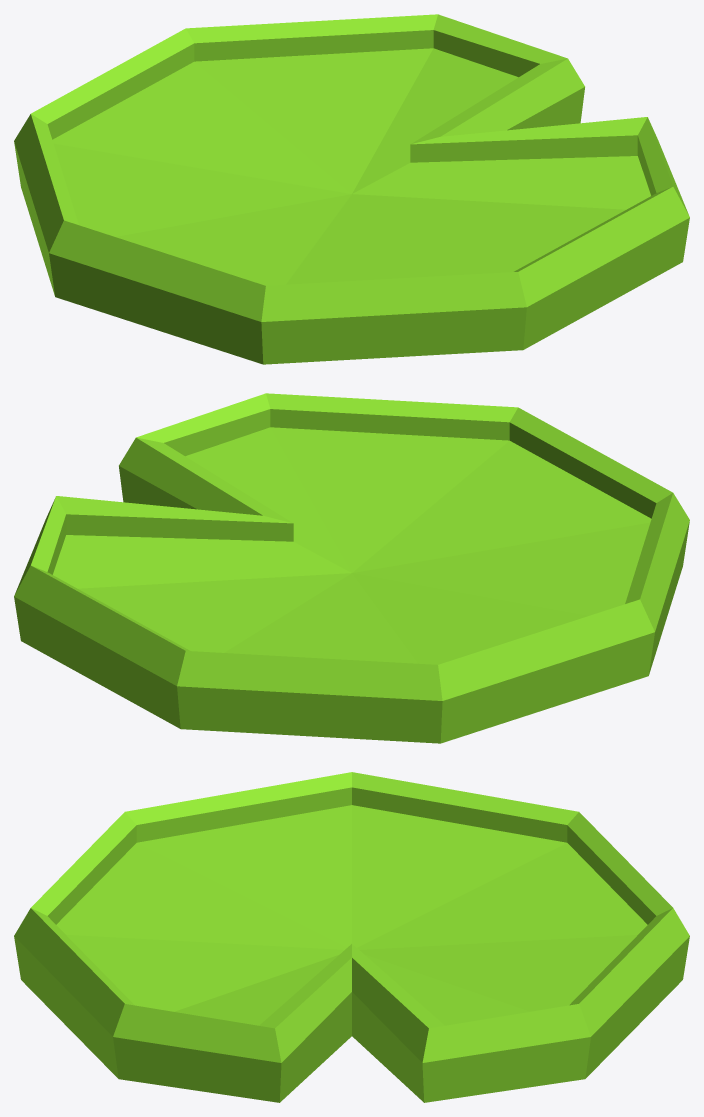
File: Lily pad_Small.fbx
3 renders of one model, top to bottom at view 1: azimuth 30°, elevation 25°; view 2: azimuth 150°, elevation 25°; view 3: azimuth 270°, elevation 25°, orthographic. The views are drawn at different scales.
Parts seen in each view (by area): view 1: Circle.002; view 2: Circle.002; view 3: Circle.002.
Part boxes in pixels (bbox=[...]): Circle.002: bbox=[14, 14, 689, 364]; Circle.002: bbox=[14, 393, 689, 743]; Circle.002: bbox=[14, 772, 689, 1102].
Bounding box in the file's own units: 106 × 15.05 × 112.
